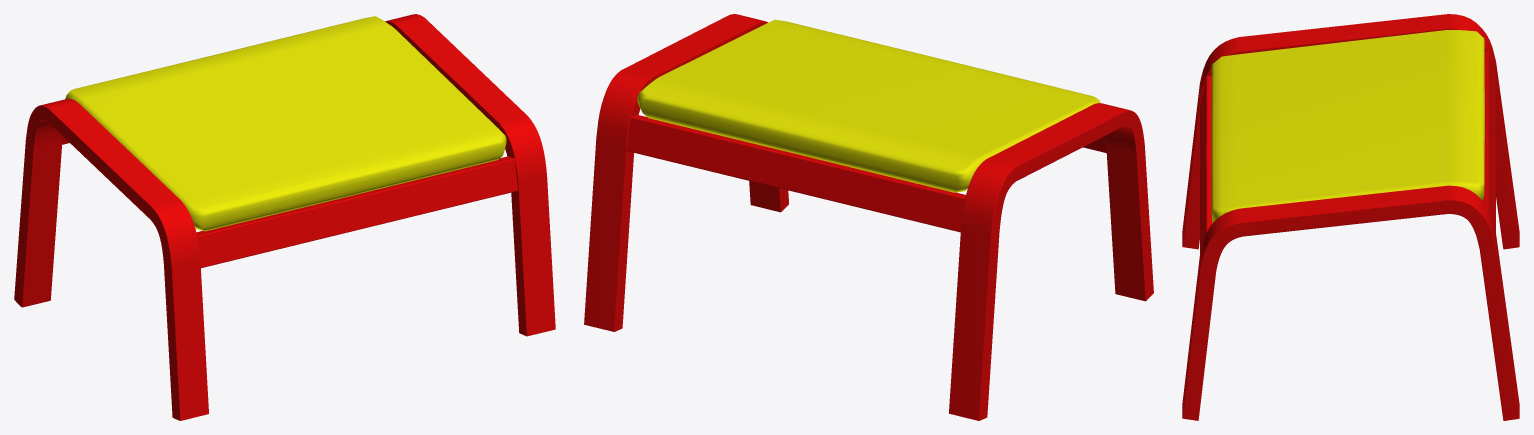
The model's file is thorkea_footrests_grp.fbx.
3 views of the same model, side by side, from view 1: azimuth 30°, elevation 25°; view 2: azimuth 150°, elevation 25°; view 3: azimuth 270°, elevation 25° (orthographic). The views are drawn at different scales.
Parts seen in each view (by area): view 1: thorkea_footrest_1; view 2: thorkea_footrest_1; view 3: thorkea_footrest_1.
Boxes of the visible parts, x1=… form: thorkea_footrest_1: x1=14, y1=14, x2=555, y2=420; thorkea_footrest_1: x1=584, y1=14, x2=1153, y2=420; thorkea_footrest_1: x1=1182, y1=14, x2=1519, y2=420.
Bounding box in the file's own units: 67.76 × 37.81 × 51.95.
